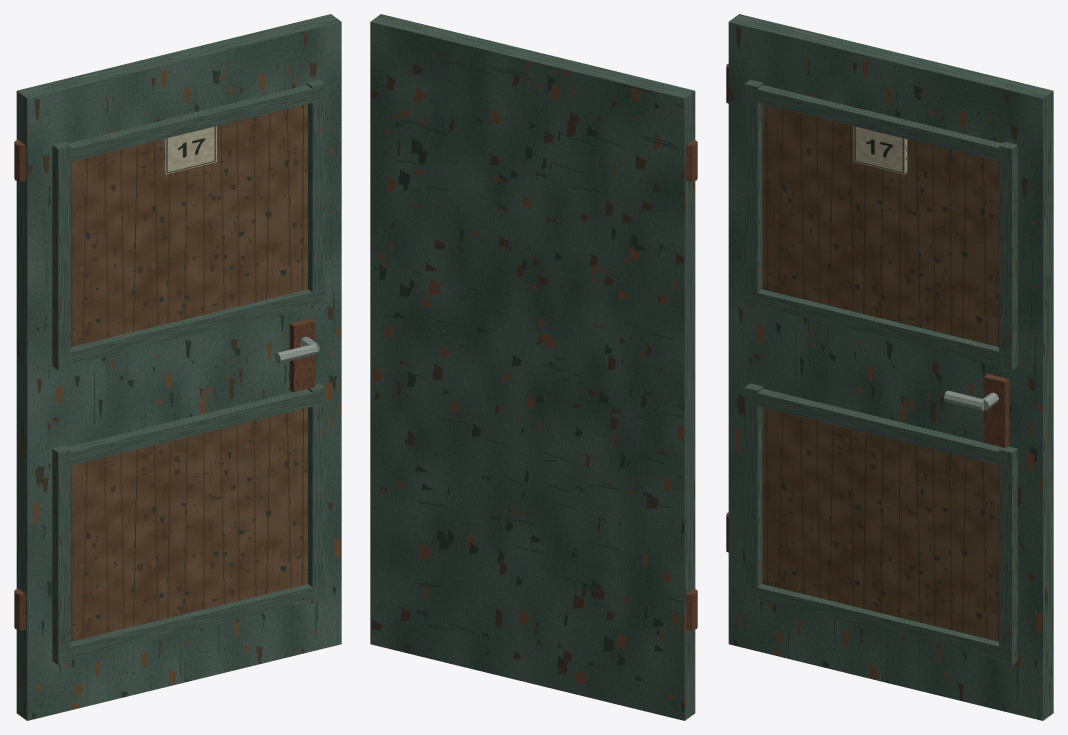
The model's file is Door_17.obj.
3 views of the same model, side by side, from view 1: azimuth 30°, elevation 25°; view 2: azimuth 150°, elevation 25°; view 3: azimuth 330°, elevation 25° (orthographic).
Parts seen in each view (by area): view 1: Door_17; view 2: Door_17; view 3: Door_17.
Boxes of the visible parts, bbox=[...] form: Door_17: bbox=[14, 14, 341, 720]; Door_17: bbox=[370, 14, 697, 720]; Door_17: bbox=[726, 14, 1053, 720].
Bounding box in the file's own units: 1.12 × 2.08 × 0.1805.
5 materials, 5 textured.
